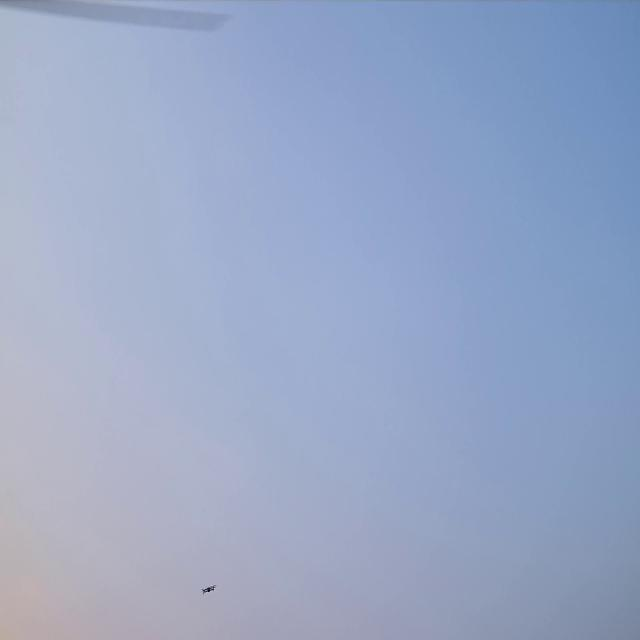UAV: (200, 582, 218, 596)
